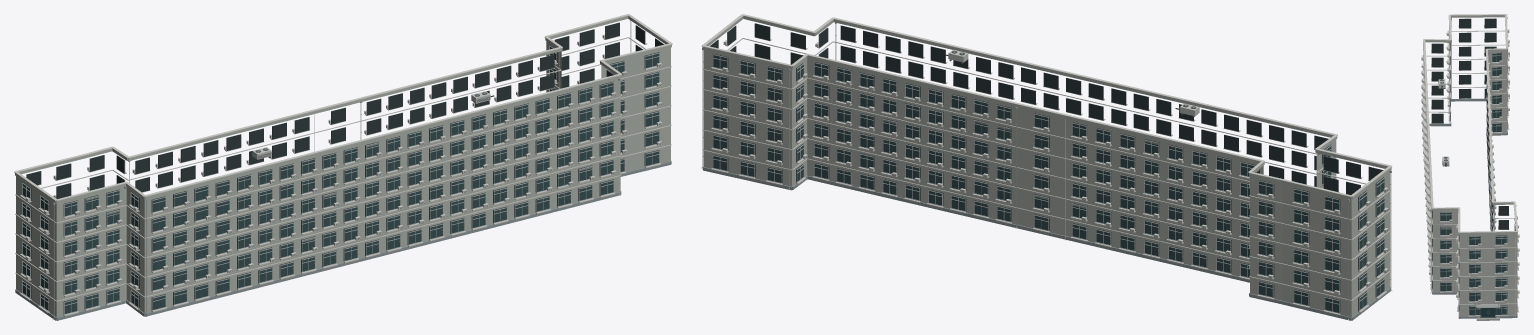
The model's file is osm_way_223859786.glb.
3 views of the same model, side by side, from view 1: azimuth 30°, elevation 25°; view 2: azimuth 150°, elevation 25°; view 3: azimuth 270°, elevation 25° (orthographic). The views are drawn at different scales.
Visible parts, largest first — view 1: Windows and facade details | 12, Architecture | 12, Roof services | 12, EXTERIOR::osm_way_223859786::rainwater and roof service deta; view 2: Architecture | 12, Windows and facade details | 12, Roof services | 12, EXTERIOR::osm_way_223859786::rainwater and roof service deta; view 3: Windows and facade details | 12, Architecture | 12, Roof services | 12, EXTERIOR::osm_way_223859786::rainwater and roof service deta, EXTERIOR::osm_way_223859786::inferred entry doors canopy and.
Part boxes in pixels (left/top/right/bottom): Windows and facade details | 12: left=20, top=22, right=664, bottom=316; Architecture | 12: left=15, top=16, right=671, bottom=320; Roof services | 12: left=14, top=14, right=672, bottom=201; EXTERIOR::osm_way_223859786::rainwater and roof service deta: left=52, top=20, right=631, bottom=319; Architecture | 12: left=702, top=16, right=1391, bottom=320; Windows and facade details | 12: left=709, top=23, right=1388, bottom=315; Roof services | 12: left=702, top=14, right=1392, bottom=197; EXTERIOR::osm_way_223859786::rainwater and roof service deta: left=701, top=22, right=1392, bottom=320; Windows and facade details | 12: left=1421, top=18, right=1519, bottom=316; Architecture | 12: left=1425, top=15, right=1517, bottom=318; Roof services | 12: left=1423, top=14, right=1518, bottom=232; EXTERIOR::osm_way_223859786::rainwater and roof service deta: left=1430, top=17, right=1516, bottom=317; EXTERIOR::osm_way_223859786::inferred entry doors canopy and: left=1476, top=303, right=1500, bottom=320.
Bounding box in the file's own units: 108 × 20.58 × 20.38.
